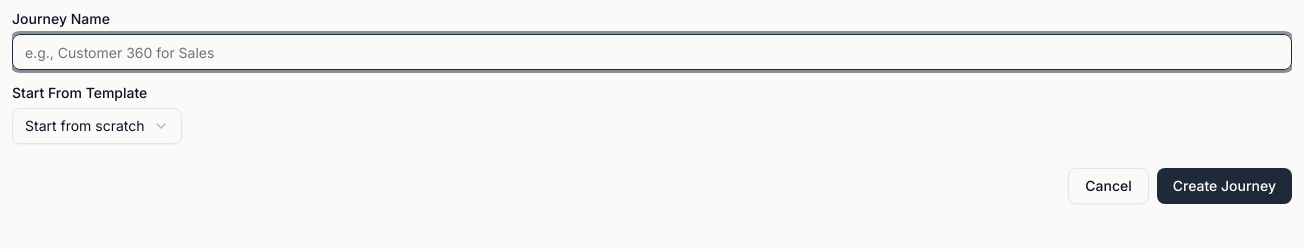
it: JourneyForm › clears error when name is typed
Note: Submit empty to show error
Click the button "Create Journey": coordinates (1224, 186) [1157,168,1292,204]
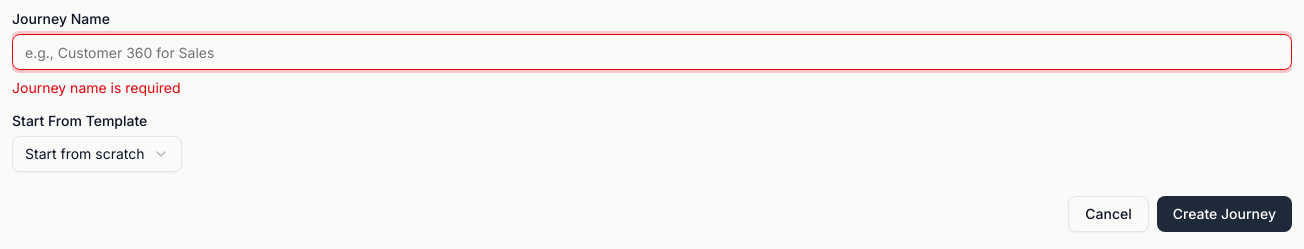
Check: the text "Journey name is required" is shown, box [12,79,180,96]
Note: Type in name
In the field labelled "Journey Name": coordinates (652, 52) [12,34,1292,70], type "Valid Name"
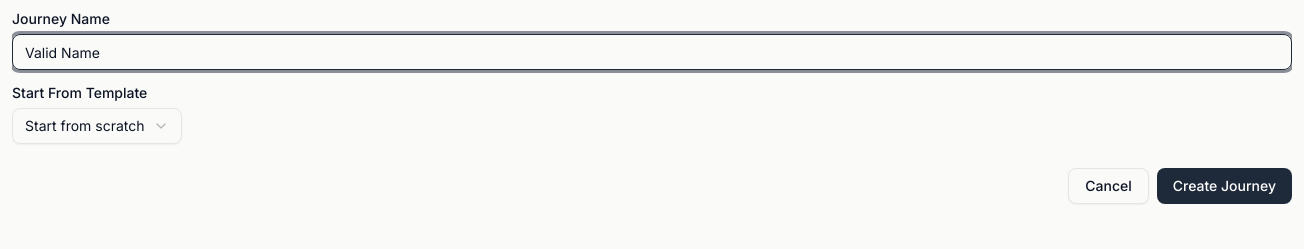
Check: the text "Journey name is required" is gone
